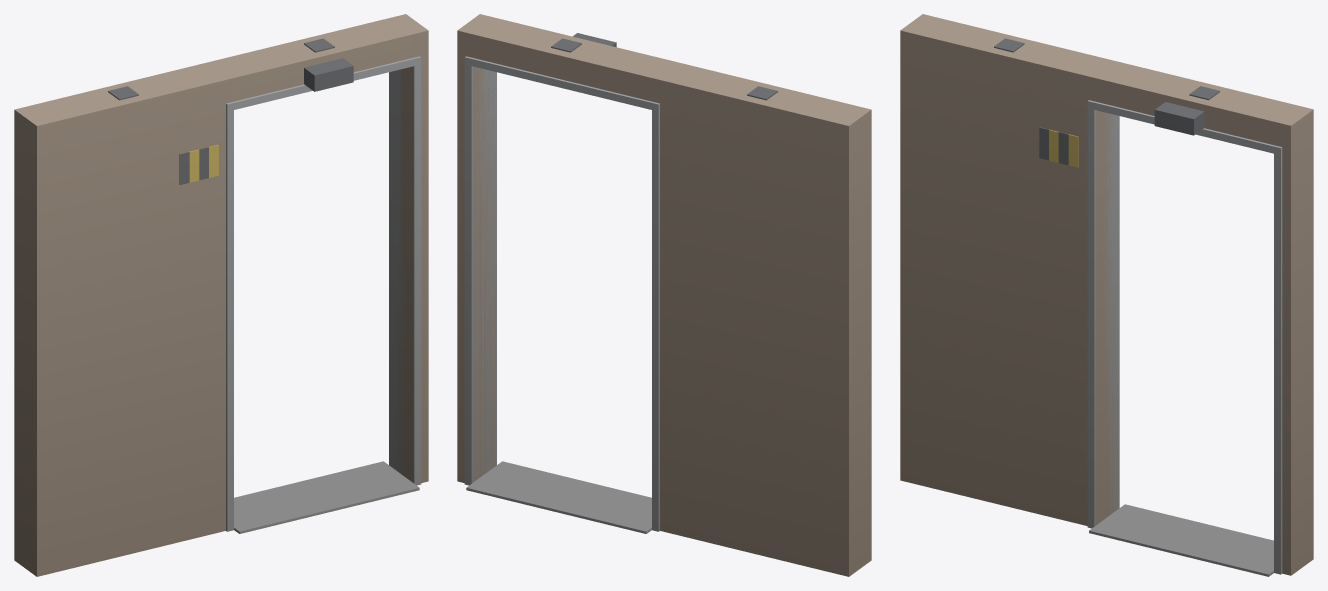
File: doorWallM_regocrete.glb
The picture shows the model from 3 angles, left to right: view 1: azimuth 30°, elevation 25°; view 2: azimuth 150°, elevation 25°; view 3: azimuth 330°, elevation 25°; orthographic projection.
Visible parts, largest first — view 1: doorWallM_regocrete; view 2: doorWallM_regocrete; view 3: doorWallM_regocrete.
Part boxes in pixels (bbox=[...]): doorWallM_regocrete: bbox=[14, 14, 428, 576]; doorWallM_regocrete: bbox=[457, 14, 871, 576]; doorWallM_regocrete: bbox=[900, 14, 1313, 576].
Bounding box in the file's own units: 2 × 2.21 × 0.36.
